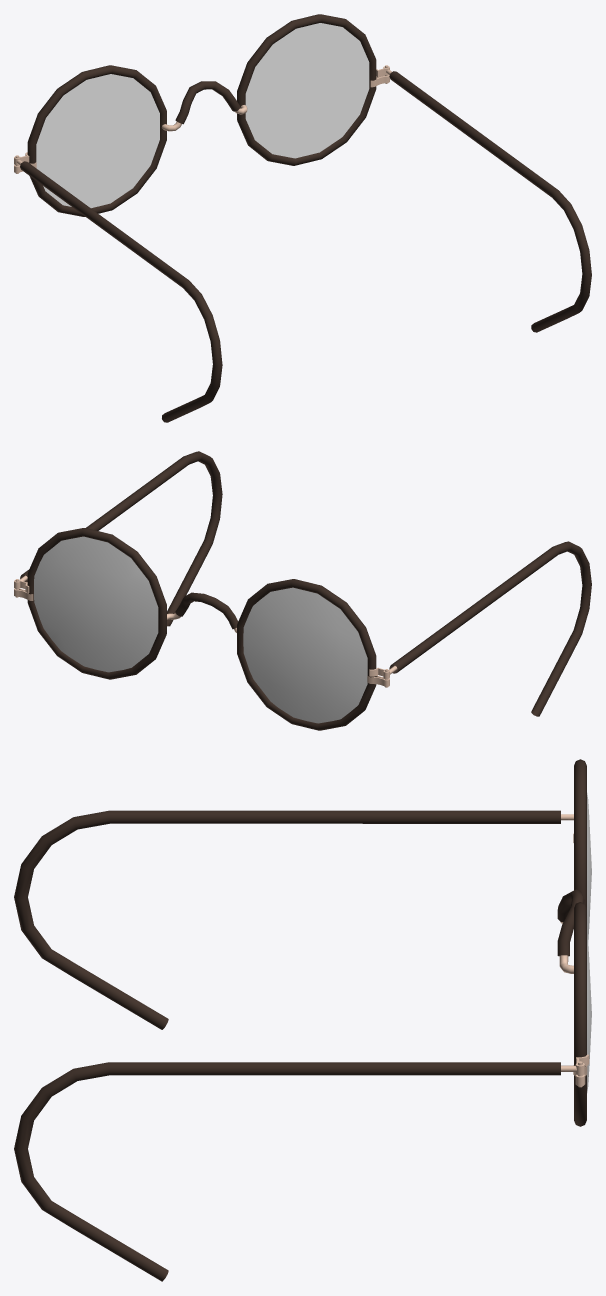
The model's file is glasses5.gltf.
The picture shows the model from 3 angles, top to bottom: view 1: azimuth 30°, elevation 25°; view 2: azimuth 150°, elevation 25°; view 3: azimuth 270°, elevation 25°; orthographic projection. The views are drawn at different scales.
Parts seen in each view (by area): view 1: glasses5; view 2: glasses5; view 3: glasses5.
Boxes of the visible parts, box(x1,y1,x2,y2) form: glasses5: box(14, 14, 591, 422); glasses5: box(14, 451, 591, 730); glasses5: box(14, 759, 591, 1281).
Bounding box in the file's own units: 1.46 × 0.8289 × 1.38.
